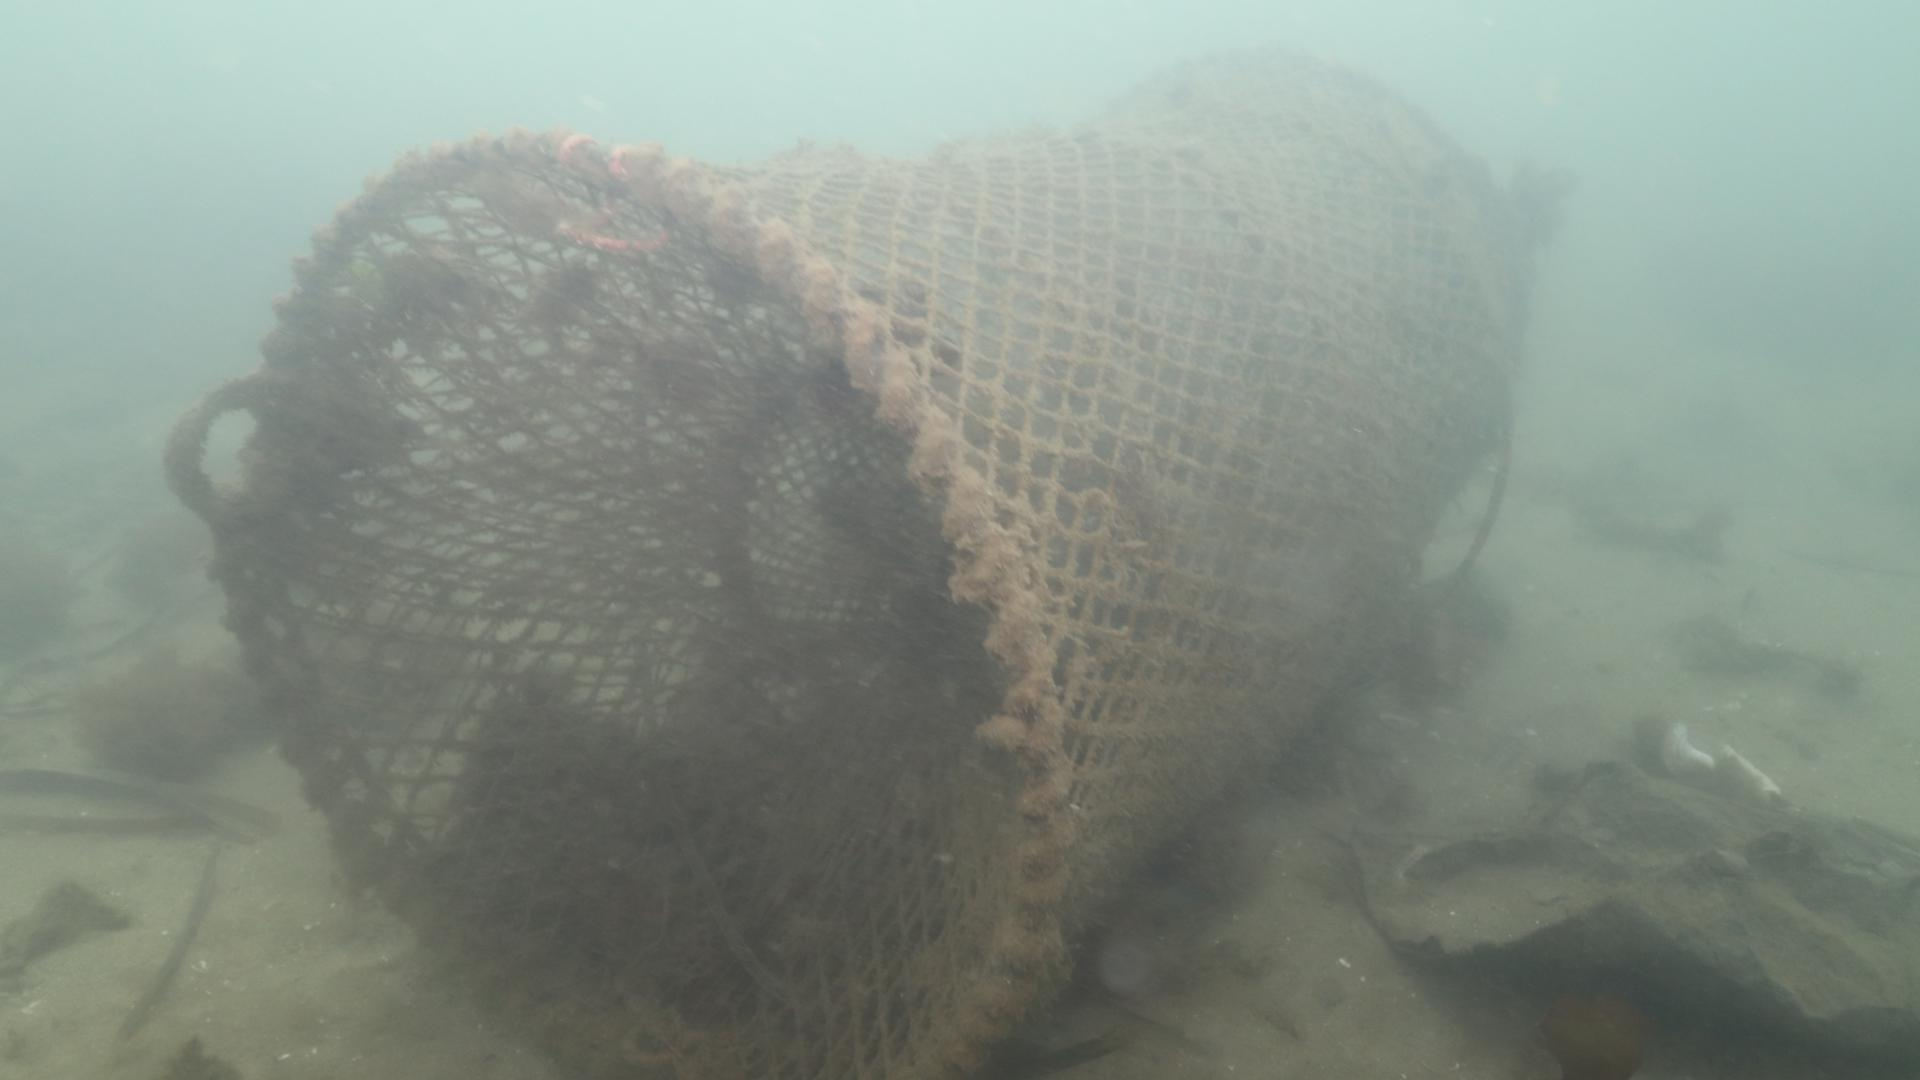spring fish trap: (210, 40, 1534, 1080)
